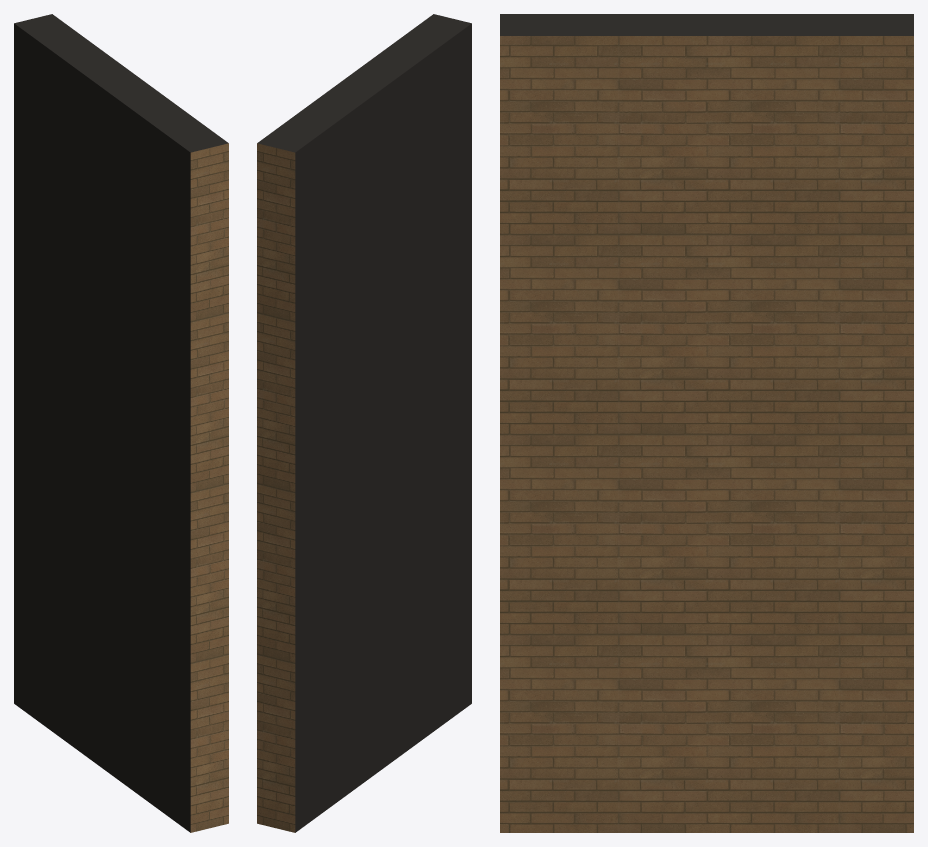
Rendered from GYM_Brick_Wall_LG.fbx.
3 views of the same model, side by side, from view 1: azimuth 30°, elevation 25°; view 2: azimuth 150°, elevation 25°; view 3: azimuth 270°, elevation 25° (orthographic). The views are drawn at different scales.
Parts seen in each view (by area): view 1: GYM_Wall_Double_Brick; view 2: GYM_Wall_Double_Brick; view 3: GYM_Wall_Double_Brick.
Boxes of the visible parts, x1,y1,x2,y2 form: GYM_Wall_Double_Brick: (14, 14, 228, 832); GYM_Wall_Double_Brick: (257, 14, 471, 832); GYM_Wall_Double_Brick: (500, 14, 913, 832).
Size of the model in its own units: 0.5 by 8.5 by 4.
2 materials, 1 textured.
